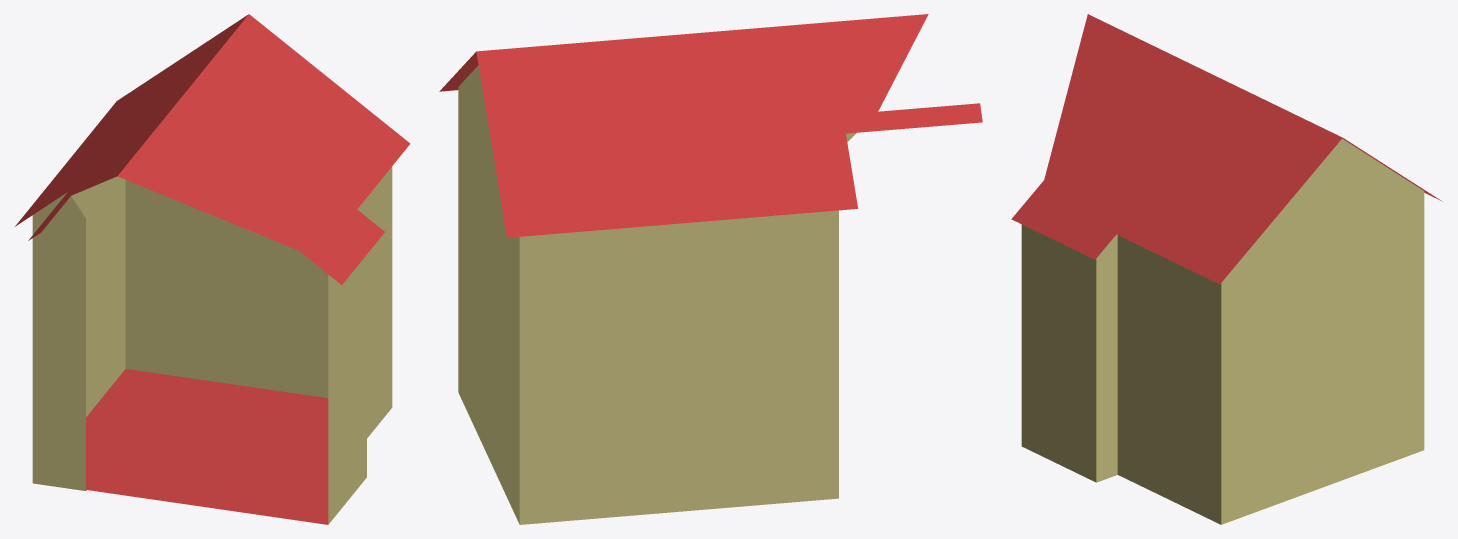
The picture shows the model from 3 angles, left to right: view 1: azimuth 30°, elevation 25°; view 2: azimuth 150°, elevation 25°; view 3: azimuth 270°, elevation 25°; orthographic projection. The views are drawn at different scales.
Size of the model in its own units: 17.36 by 15.79 by 14.1.
